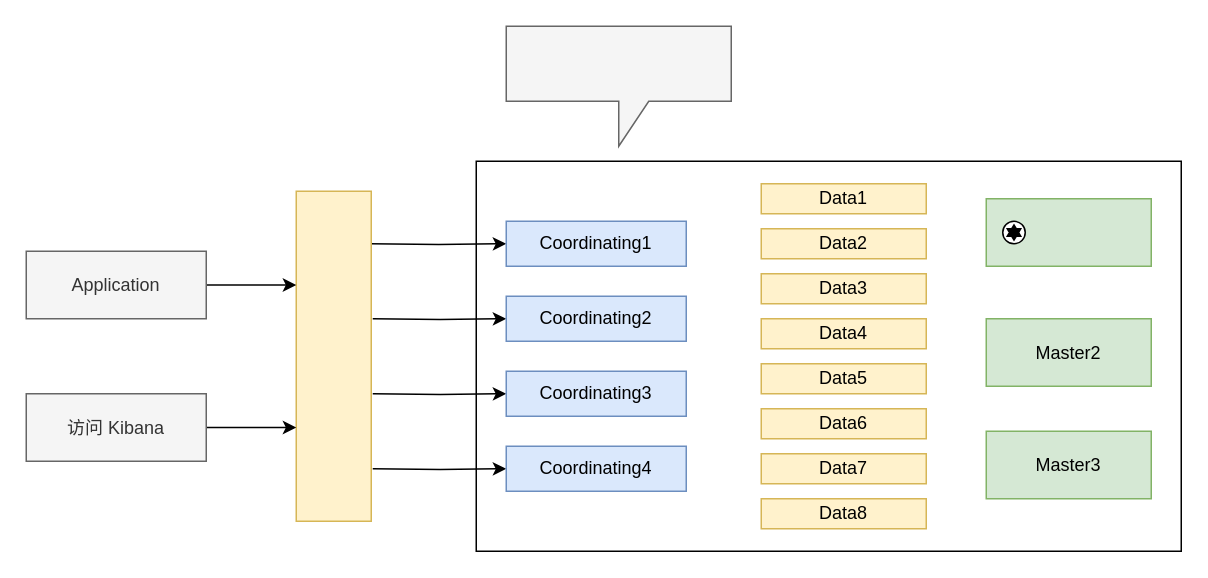
This 1208x578 diagram has some shape labels left out. Here are the shapes that lost their labels. From the top down, the box of each, then its label:
(505, 25, 731, 146): 将Kibana部署在Coordinating节点
(985, 197, 1151, 266): Master1
(295, 190, 371, 521): LB
